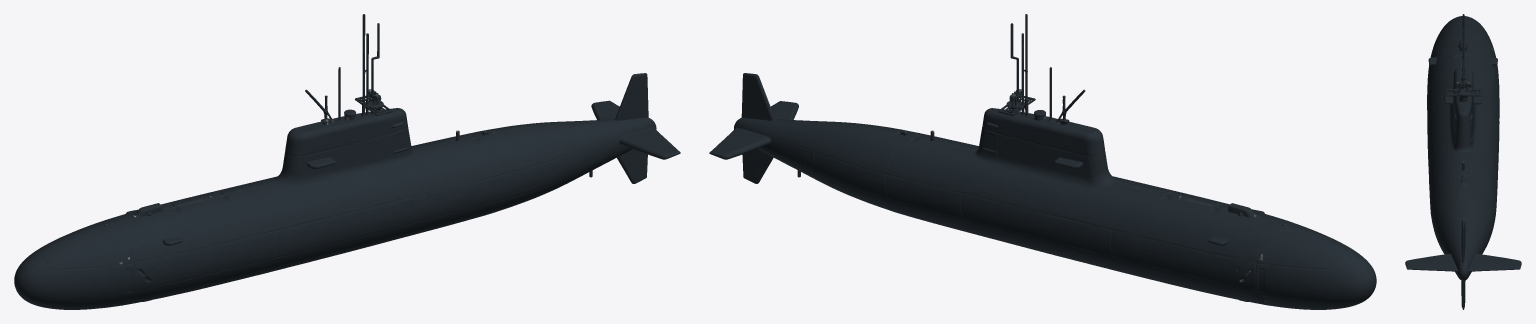
3 renders of one model, left to right at view 1: azimuth 30°, elevation 25°; view 2: azimuth 150°, elevation 25°; view 3: azimuth 270°, elevation 25°, orthographic. The views are drawn at different scales.
Size of the model in its own units: 1.9 by 0.6704 by 0.3764.
Materials: 1 (1 with a texture image).
